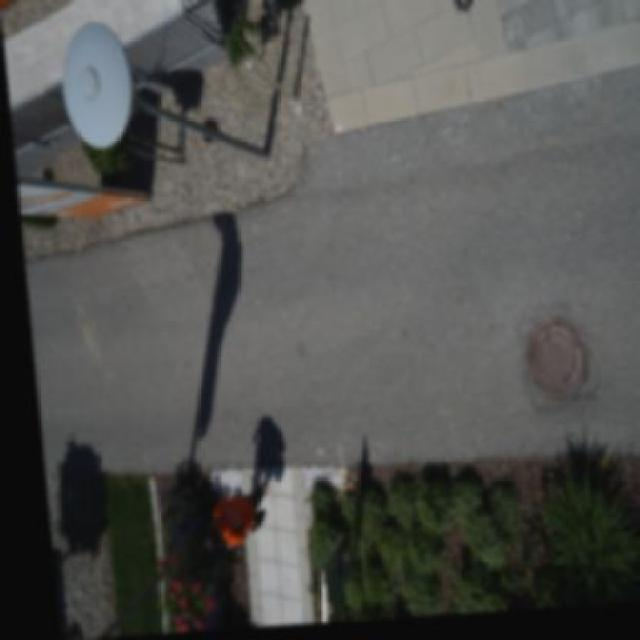Person: (182, 487, 253, 562)
